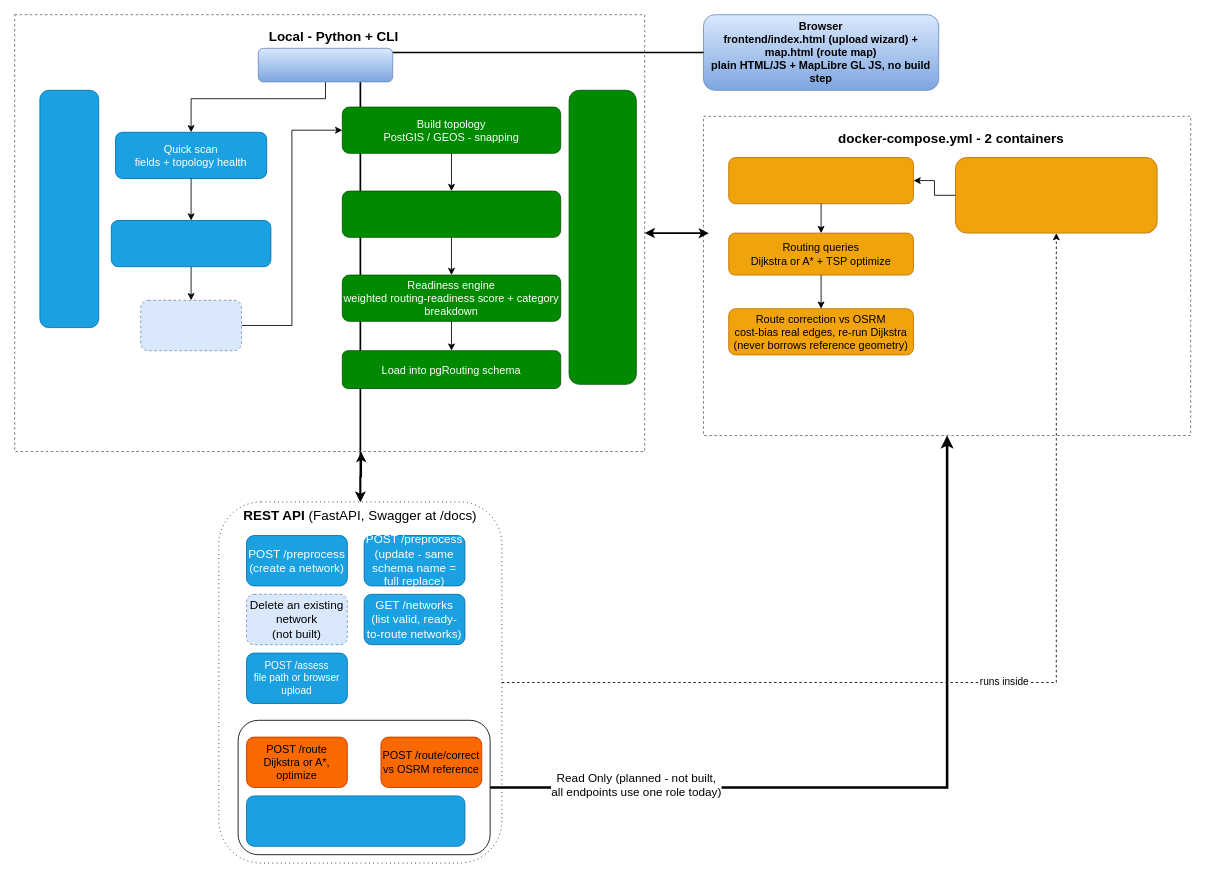
Some shapes in this 1205 by 878 pixel diagram are drawn without their labels. Each missing label, with the centre of its shape:
App Container python/Dockerfile FastAPI (REST API above) + frontend static files: (1056,195)
assess (quick): (69,208)
GET /networks/{schema}/geometry (map page's network overlay): (355,820)
Infer missing attributes direction / speed / turn restrictions: (451,213)
Postgres + PostGIS + pgRouting (container): (821,180)
preprocess (full): (602,236)
Quick score weighted + per-category: (190,243)
Run Process: (325,64)
Save Candidate for 24h (staging - not built): (191,325)
